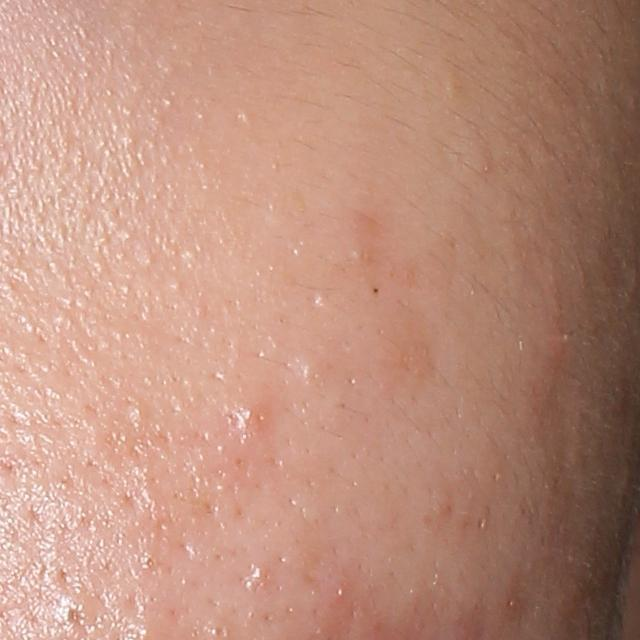comedo: (213, 391, 272, 447), (349, 247, 369, 264)
